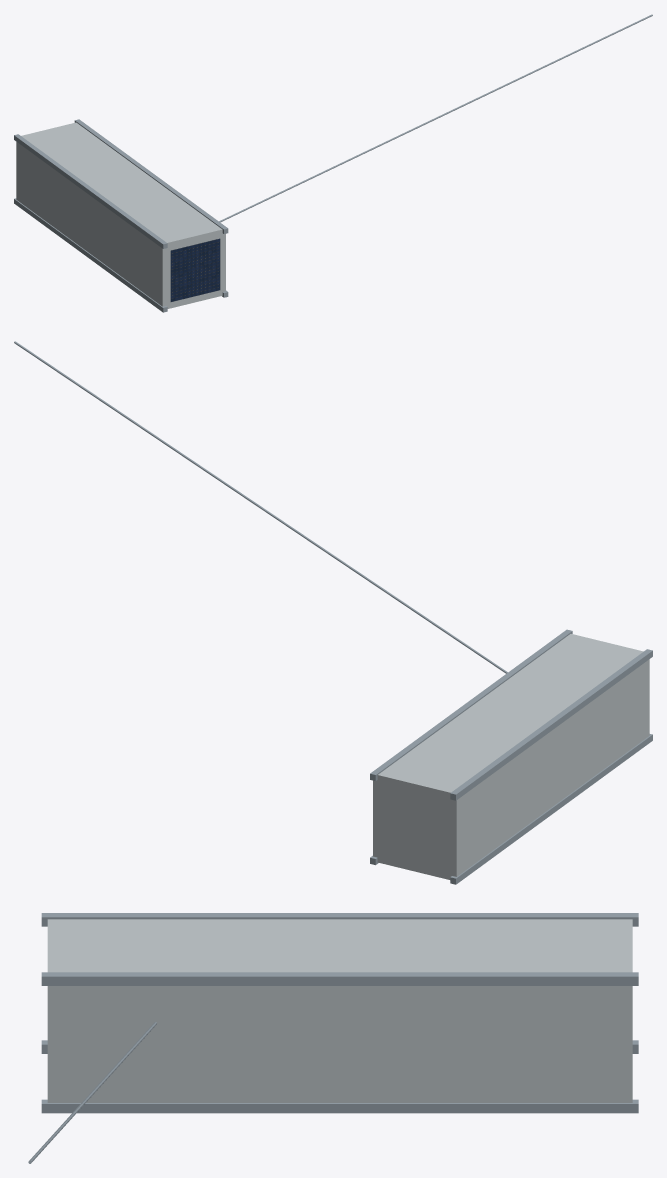
The model's file is ref-cubesat-4u-68498.glb.
3 renders of one model, top to bottom at view 1: azimuth 30°, elevation 25°; view 2: azimuth 150°, elevation 25°; view 3: azimuth 270°, elevation 25°, orthographic. The views are drawn at different scales.
Parts seen in each view (by area): view 1: Spacecraft body, Dispenser rail (×3), Body-mounted cells, Antenna boom; view 2: Spacecraft body, Dispenser rail (×3), Antenna boom; view 3: Spacecraft body, Dispenser rail (×3), Antenna boom.
Part boxes in pixels (x1,y1,x2,y2): Spacecraft body: [16, 122, 225, 308]; Dispenser rail (×3): [14, 119, 228, 312]; Body-mounted cells: [170, 238, 220, 301]; Antenna boom: [219, 14, 652, 222]; Spacecraft body: [373, 634, 649, 879]; Dispenser rail (×3): [370, 629, 652, 884]; Antenna boom: [14, 341, 507, 673]; Spacecraft body: [47, 919, 632, 1102]; Dispenser rail (×3): [41, 913, 638, 1113]; Antenna boom: [28, 1022, 156, 1163].
Bounding box in the file's own units: 0.7684 × 0.2742 × 0.4171.
3 materials, 1 textured.
